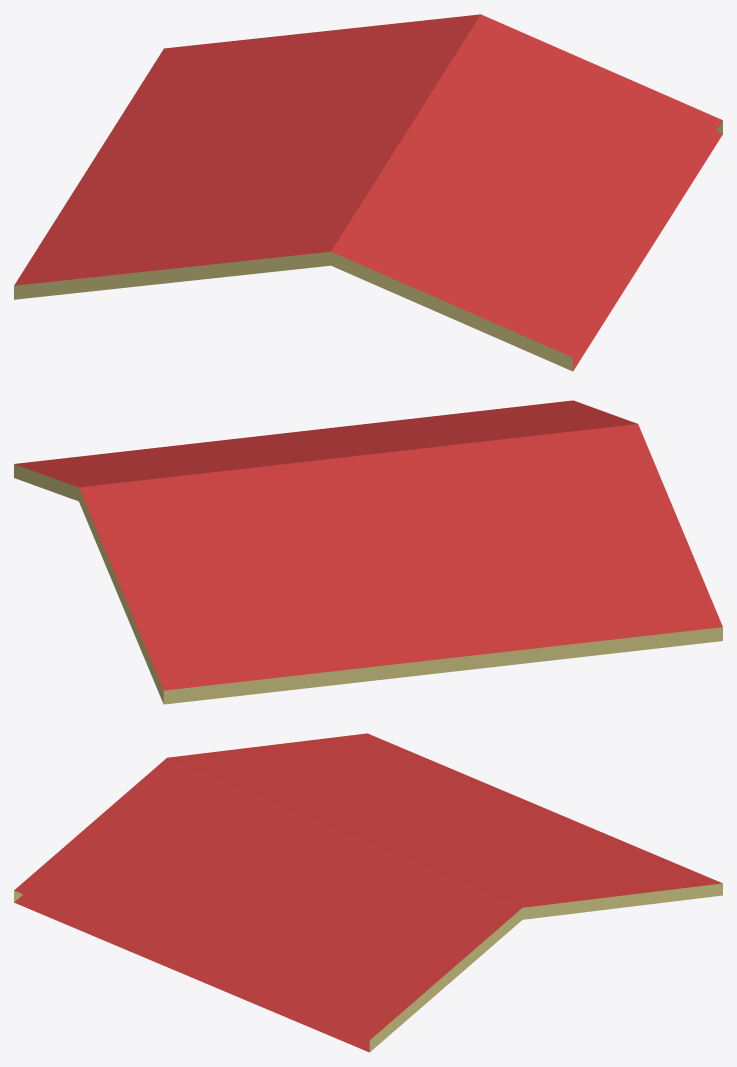
The picture shows the model from 3 angles, top to bottom: view 1: azimuth 30°, elevation 25°; view 2: azimuth 150°, elevation 25°; view 3: azimuth 270°, elevation 25°; orthographic projection. The views are drawn at different scales.
Bounding box in the file's own units: 5.3 × 5.31 × 0.661.
